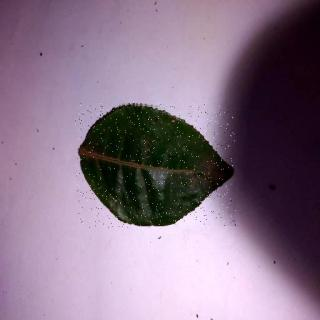Bird Eye Spot: (76, 105, 237, 229)
